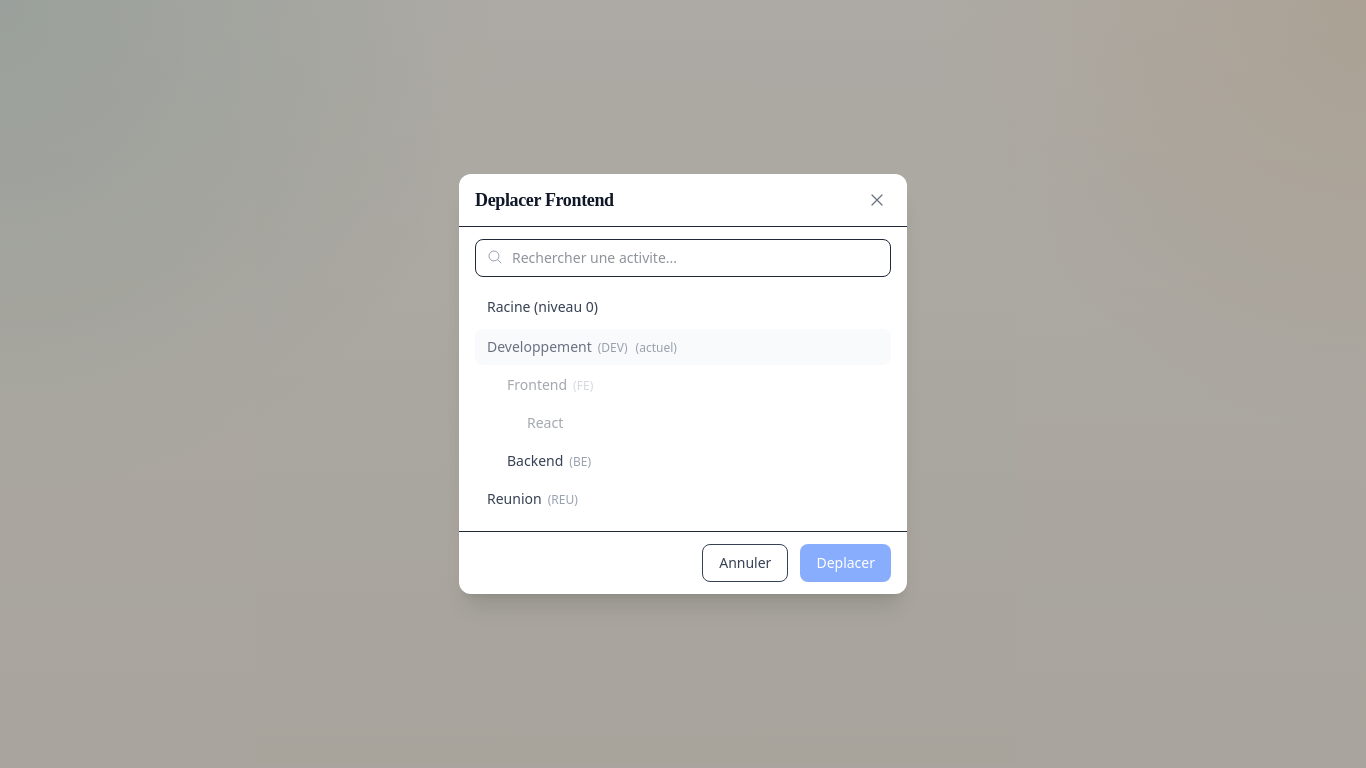
it: SelectionParentModal › filtre l'arbre par recherche
Type "Reunion" into the field with placeholder "Rechercher une activite..." at {"x": 683, "y": 258}, box [475, 239, 891, 277]
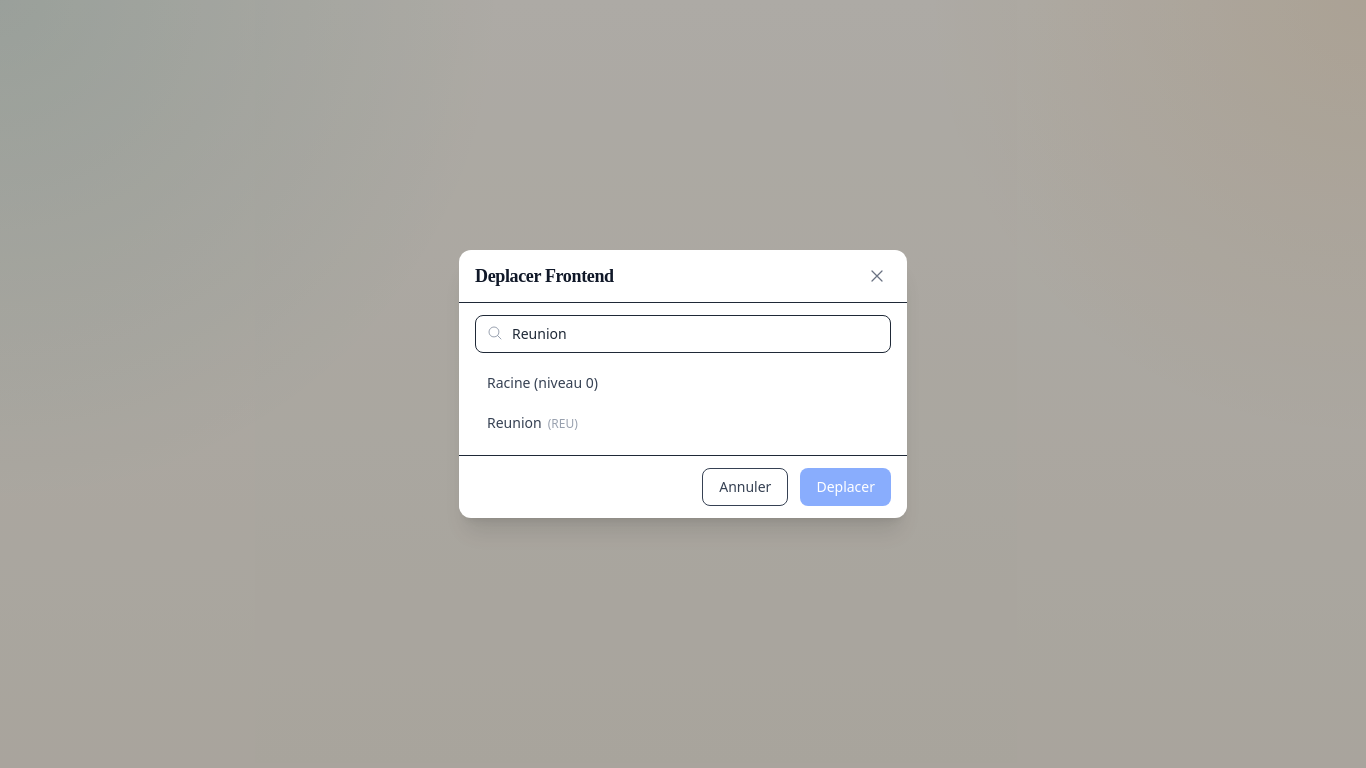
Check: the text "Reunion" is shown, box [487, 413, 542, 432]
Check: the button "Developpement" is gone
Check: the button "Backend" is gone
